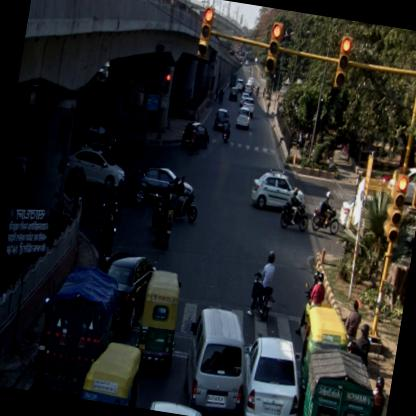car: (176, 304, 254, 415), (230, 332, 309, 415), (96, 248, 156, 332), (121, 158, 196, 214), (248, 166, 310, 217), (64, 146, 128, 192), (135, 397, 217, 415), (179, 120, 211, 152), (212, 106, 230, 133), (235, 106, 252, 128), (240, 96, 256, 119), (229, 86, 238, 100)
motorcycle: (245, 250, 280, 324), (292, 269, 328, 337), (165, 173, 202, 221), (310, 187, 344, 235), (278, 186, 312, 232), (362, 376, 391, 415), (186, 127, 204, 156), (220, 117, 233, 144)
truck: (38, 262, 123, 401), (296, 344, 380, 415)
